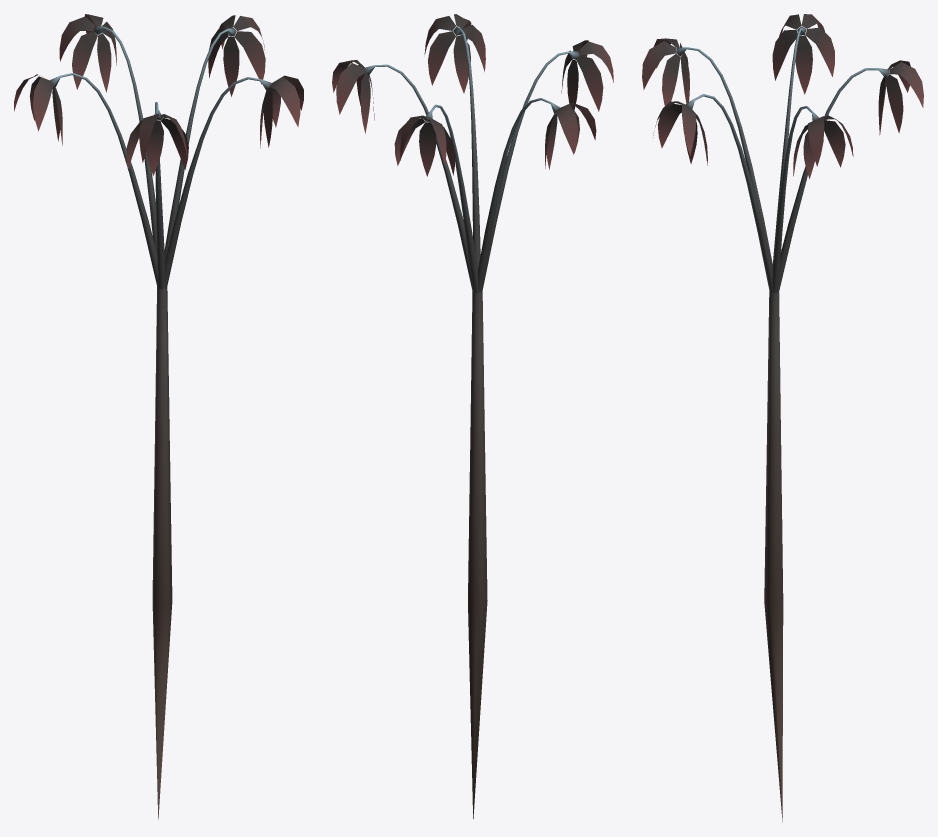
The model's file is plants-flowers-red-bell-flower_v3.glb.
3 renders of one model, left to right at view 1: azimuth 30°, elevation 25°; view 2: azimuth 150°, elevation 25°; view 3: azimuth 270°, elevation 25°, orthographic.
Visible parts, largest first — view 1: Red Bell Flower_v3; view 2: Red Bell Flower_v3; view 3: Red Bell Flower_v3.
Part boxes in pixels (x1,y1,x2,y2): Red Bell Flower_v3: (14, 14, 303, 819); Red Bell Flower_v3: (332, 14, 613, 818); Red Bell Flower_v3: (642, 14, 923, 821).
Size of the model in its own units: 0.2385 by 0.7 by 0.2365.
